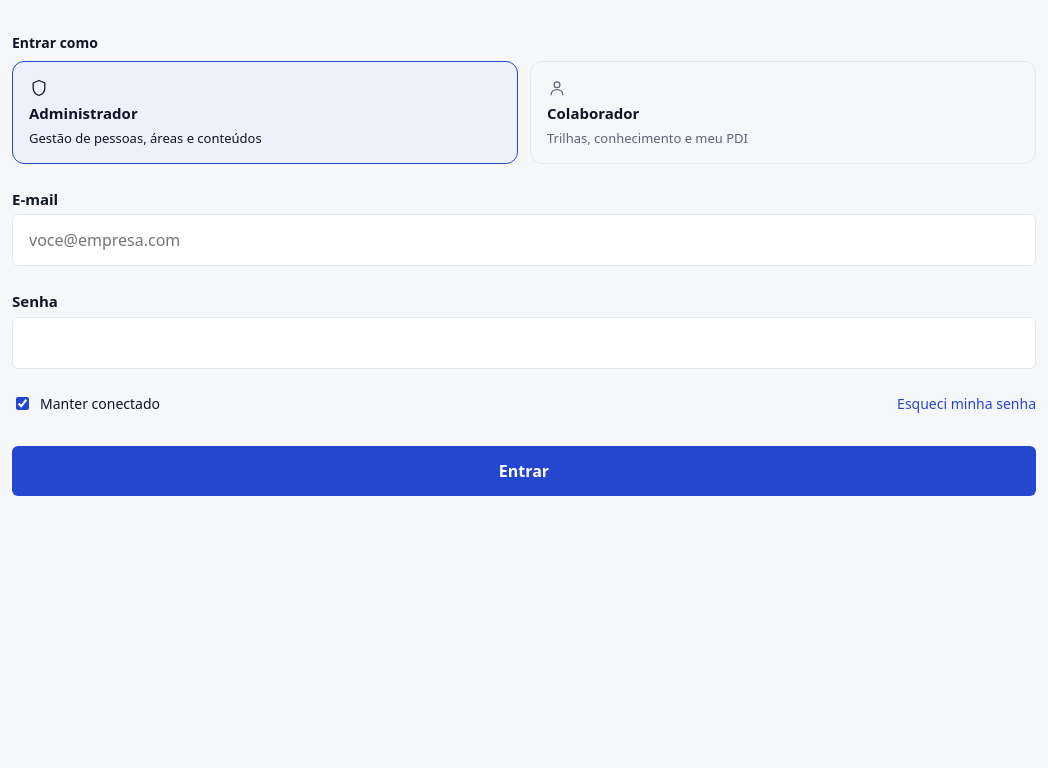
it: LoginForm › mostra carregamento no botão e impede envio duplicado
Type "ana@nexo.com" into the field labelled "E-mail" at (524, 240), box [12, 214, 1036, 266]
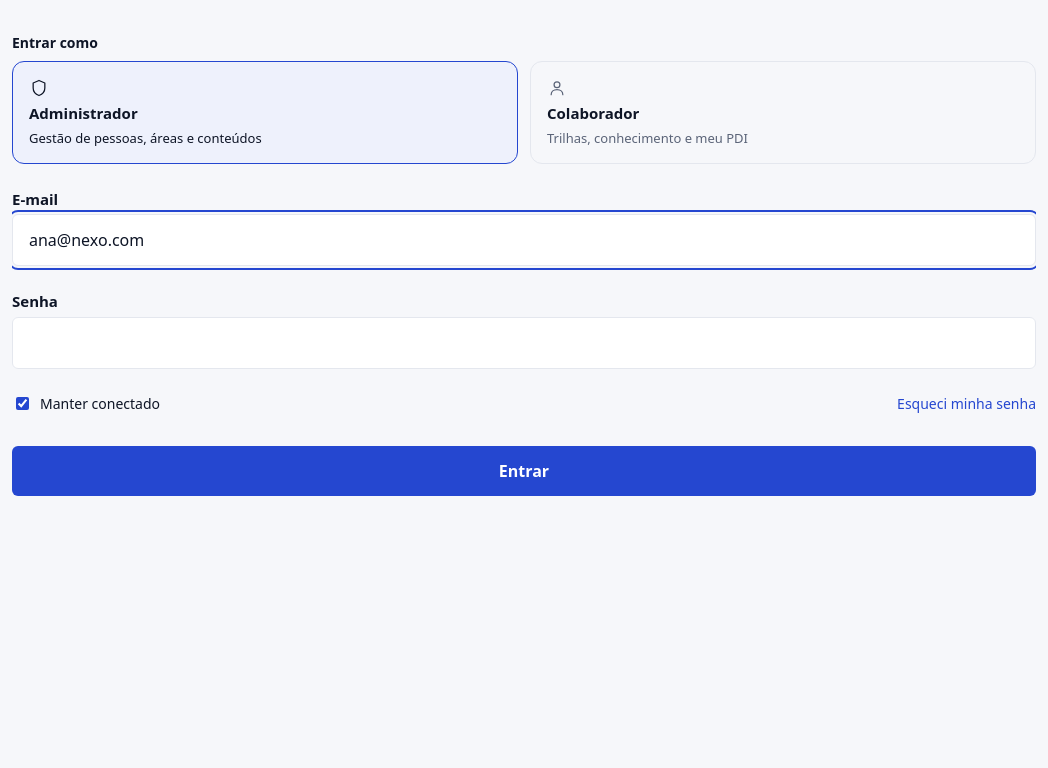
Type "123456" into the password field labelled "Senha" at (524, 343), box [12, 317, 1036, 369]
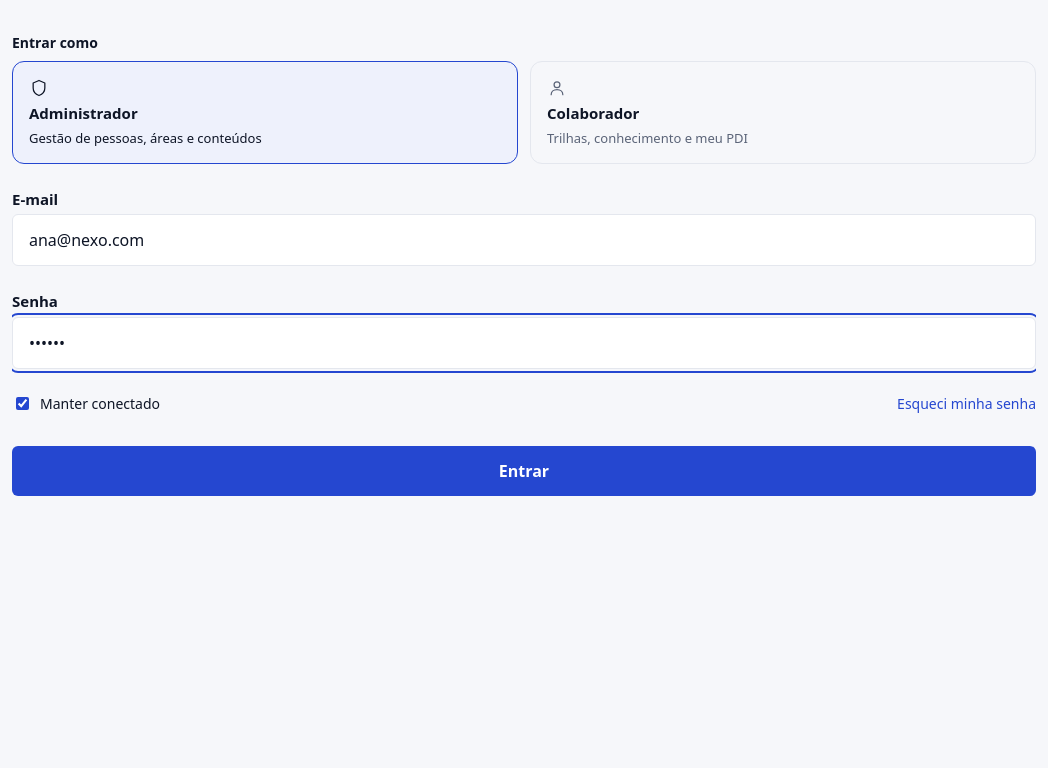
Click the button "Entrar" at (524, 471), box [12, 446, 1036, 496]
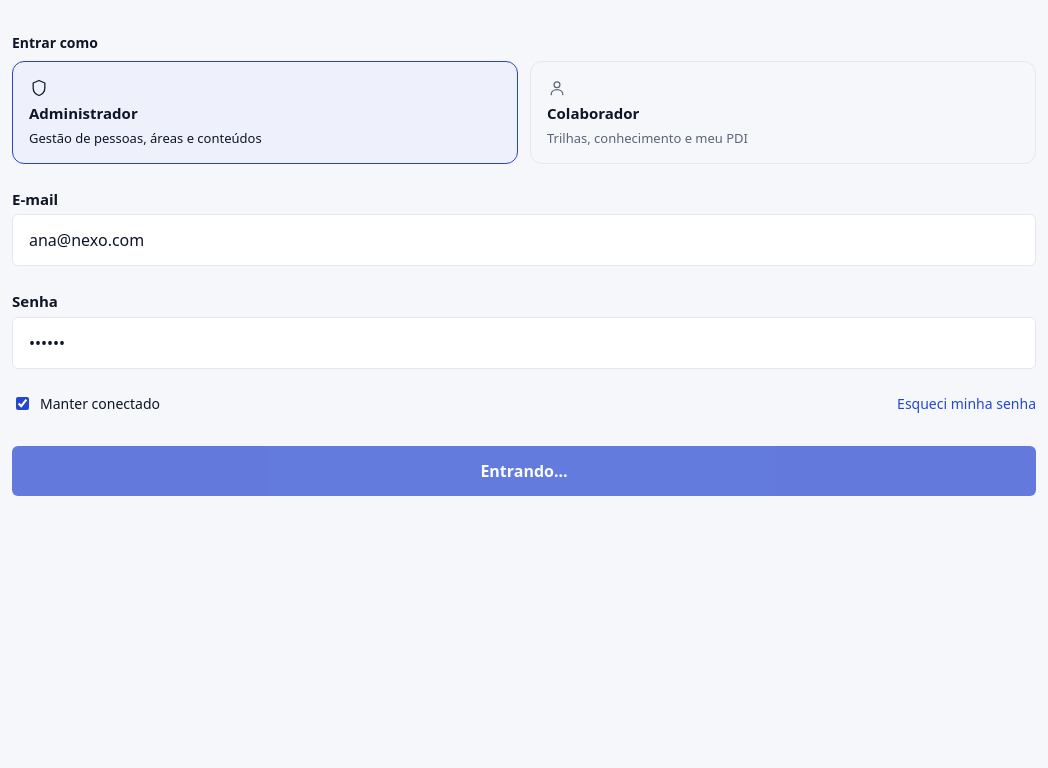
Now the button named "Entrar" is disabled
Now the button named "Entrar" reads "Entrando..."
Click the button named "Entrar" at (524, 471), box [12, 446, 1036, 496]
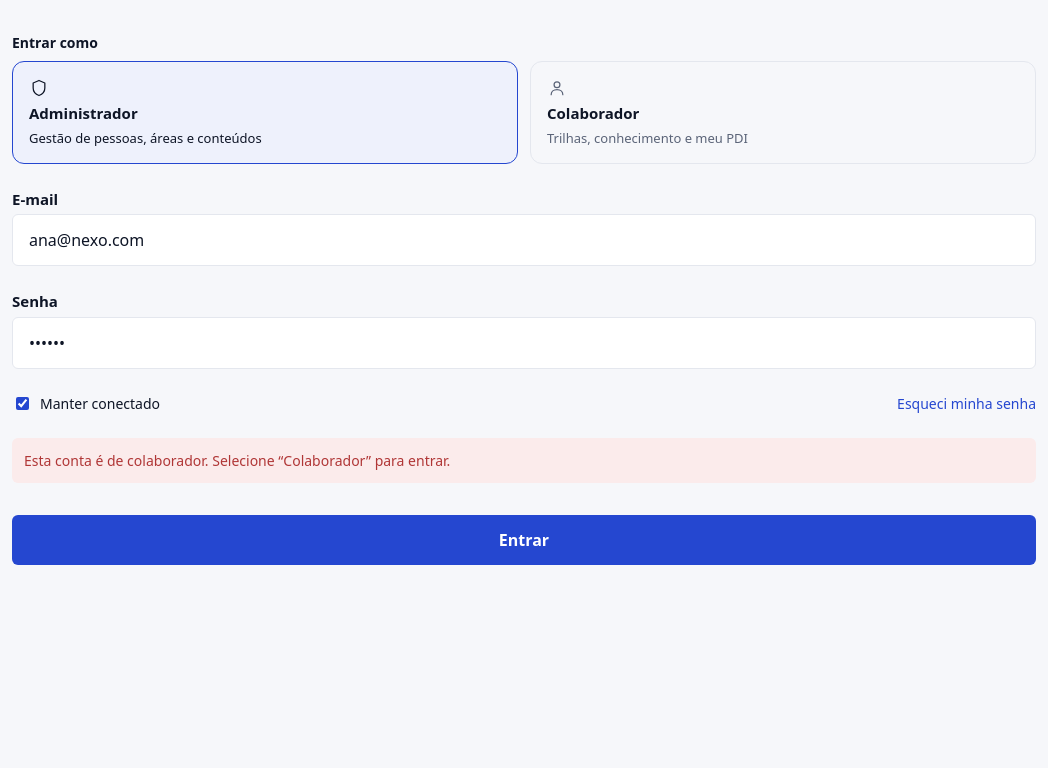
Now the button "Entrar" is enabled, box [12, 515, 1036, 565]
